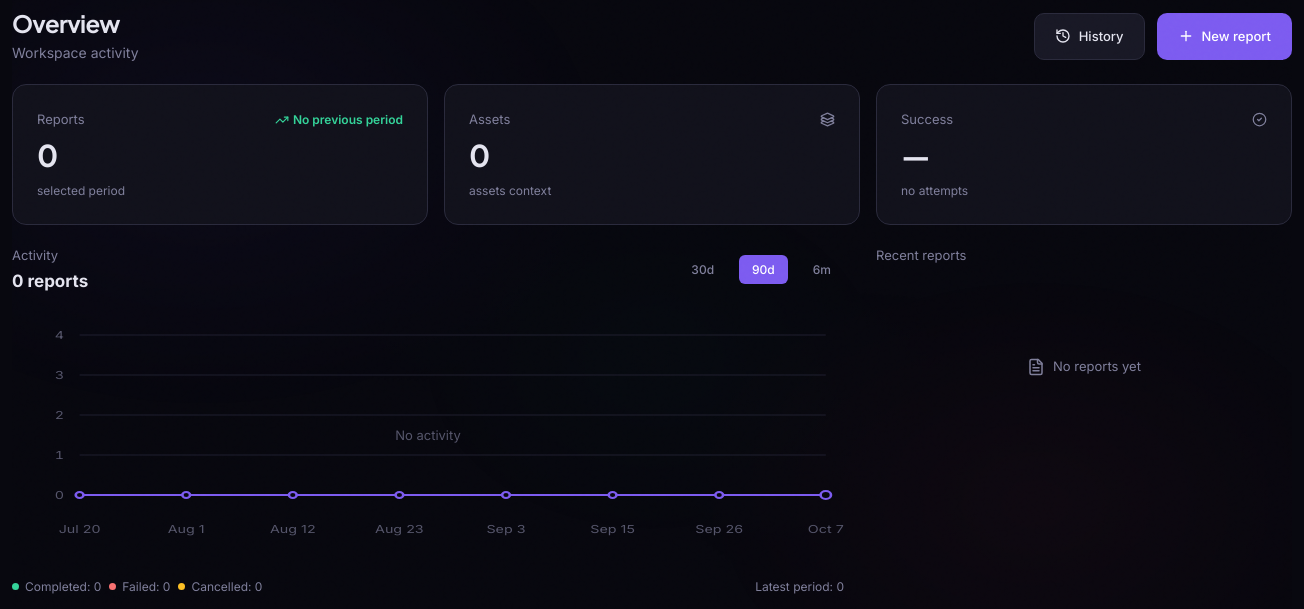
it: DashboardHome › shows file loading percentage in the initial dashboard launcher
Click the button "New report": click(1224, 36) [1156,13,1292,60]
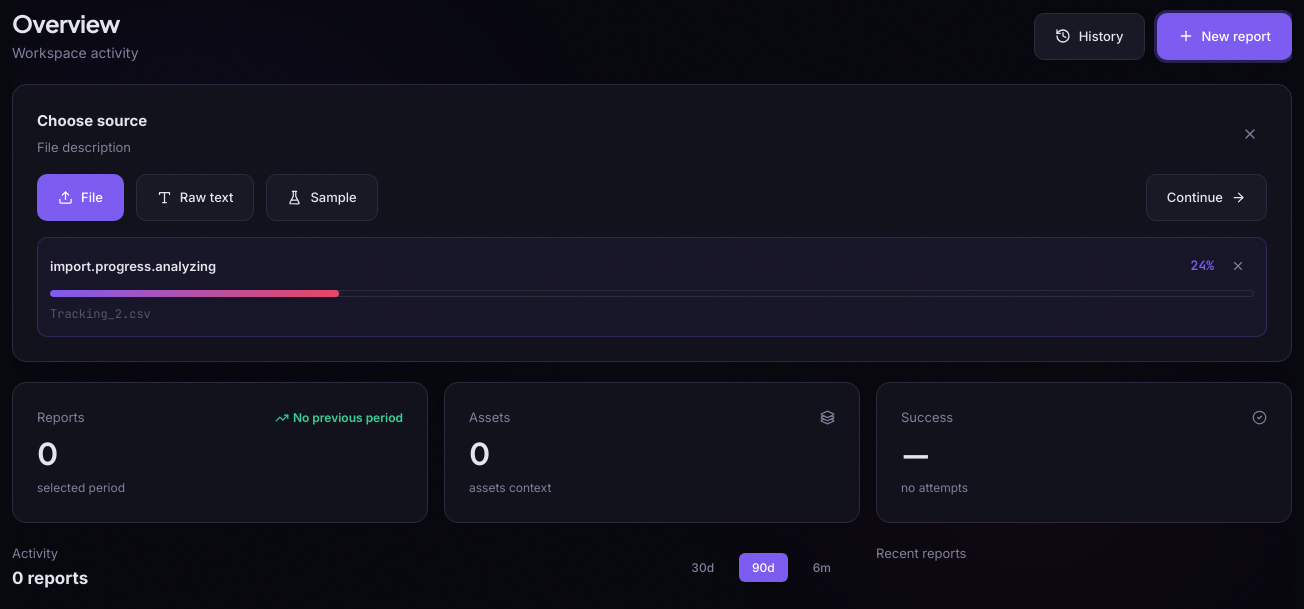
Expected: the text "24%" is shown, [1191,256,1214,276]
Expected: the text "Tracking_2.csv" is shown, [50,306,151,322]
